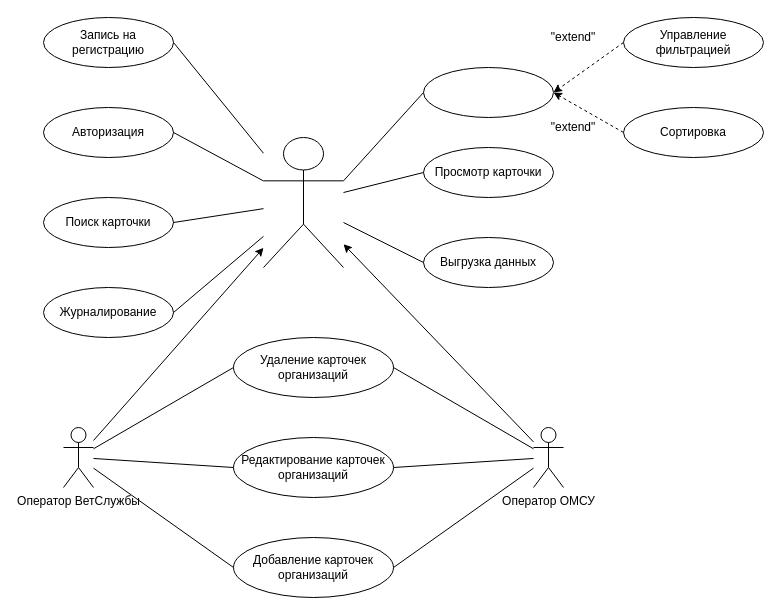
The diagram is 781 pixels wide and 615 high, and some of its shapes have lost their labels. The shapes that lost their labels are listed below. From the top down, each one's centre as x and y in pixels, then its label:
At (488,92): "Просмотр реестра".
At (303,202): "Пользователь".
